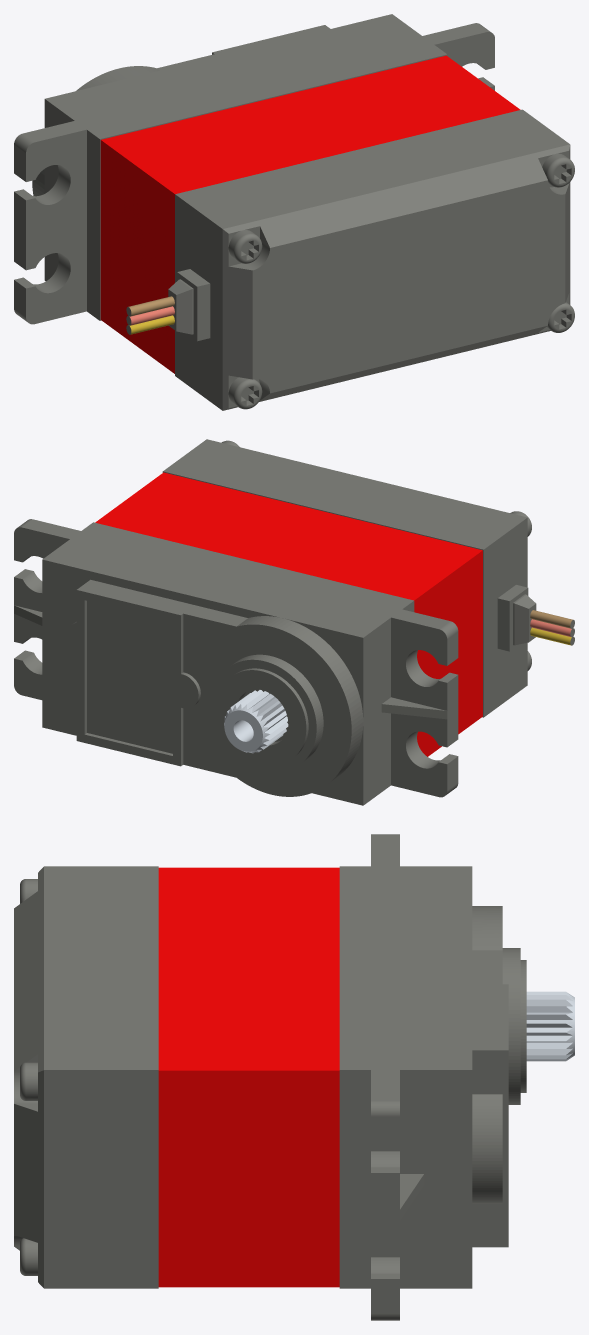
The model's file is smart_servo.glb.
3 renders of one model, top to bottom at view 1: azimuth 30°, elevation 25°; view 2: azimuth 150°, elevation 25°; view 3: azimuth 270°, elevation 25°, orthographic. The views are drawn at different scales.
Visible parts, largest first — view 1: Node1, Node5; view 2: Node1, Node5, Node2; view 3: Node1, Node5, Node2.
Part boxes in pixels (box(x1,y1,x2,y2)): Node1: box(14, 14, 574, 410); Node5: box(100, 55, 520, 373); Node1: box(14, 439, 574, 805); Node5: box(95, 472, 482, 756); Node2: box(224, 690, 288, 753); Node1: box(14, 834, 526, 1320); Node5: box(158, 867, 339, 1287); Node2: box(526, 991, 574, 1061).
Size of the model in its own units: 55.2 by 20 by 46.5.
